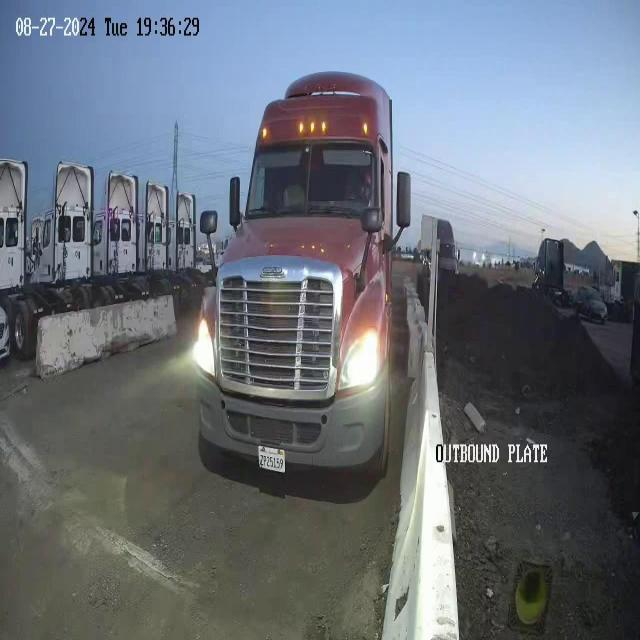TRUCK_OUT: (193, 70, 412, 484)
